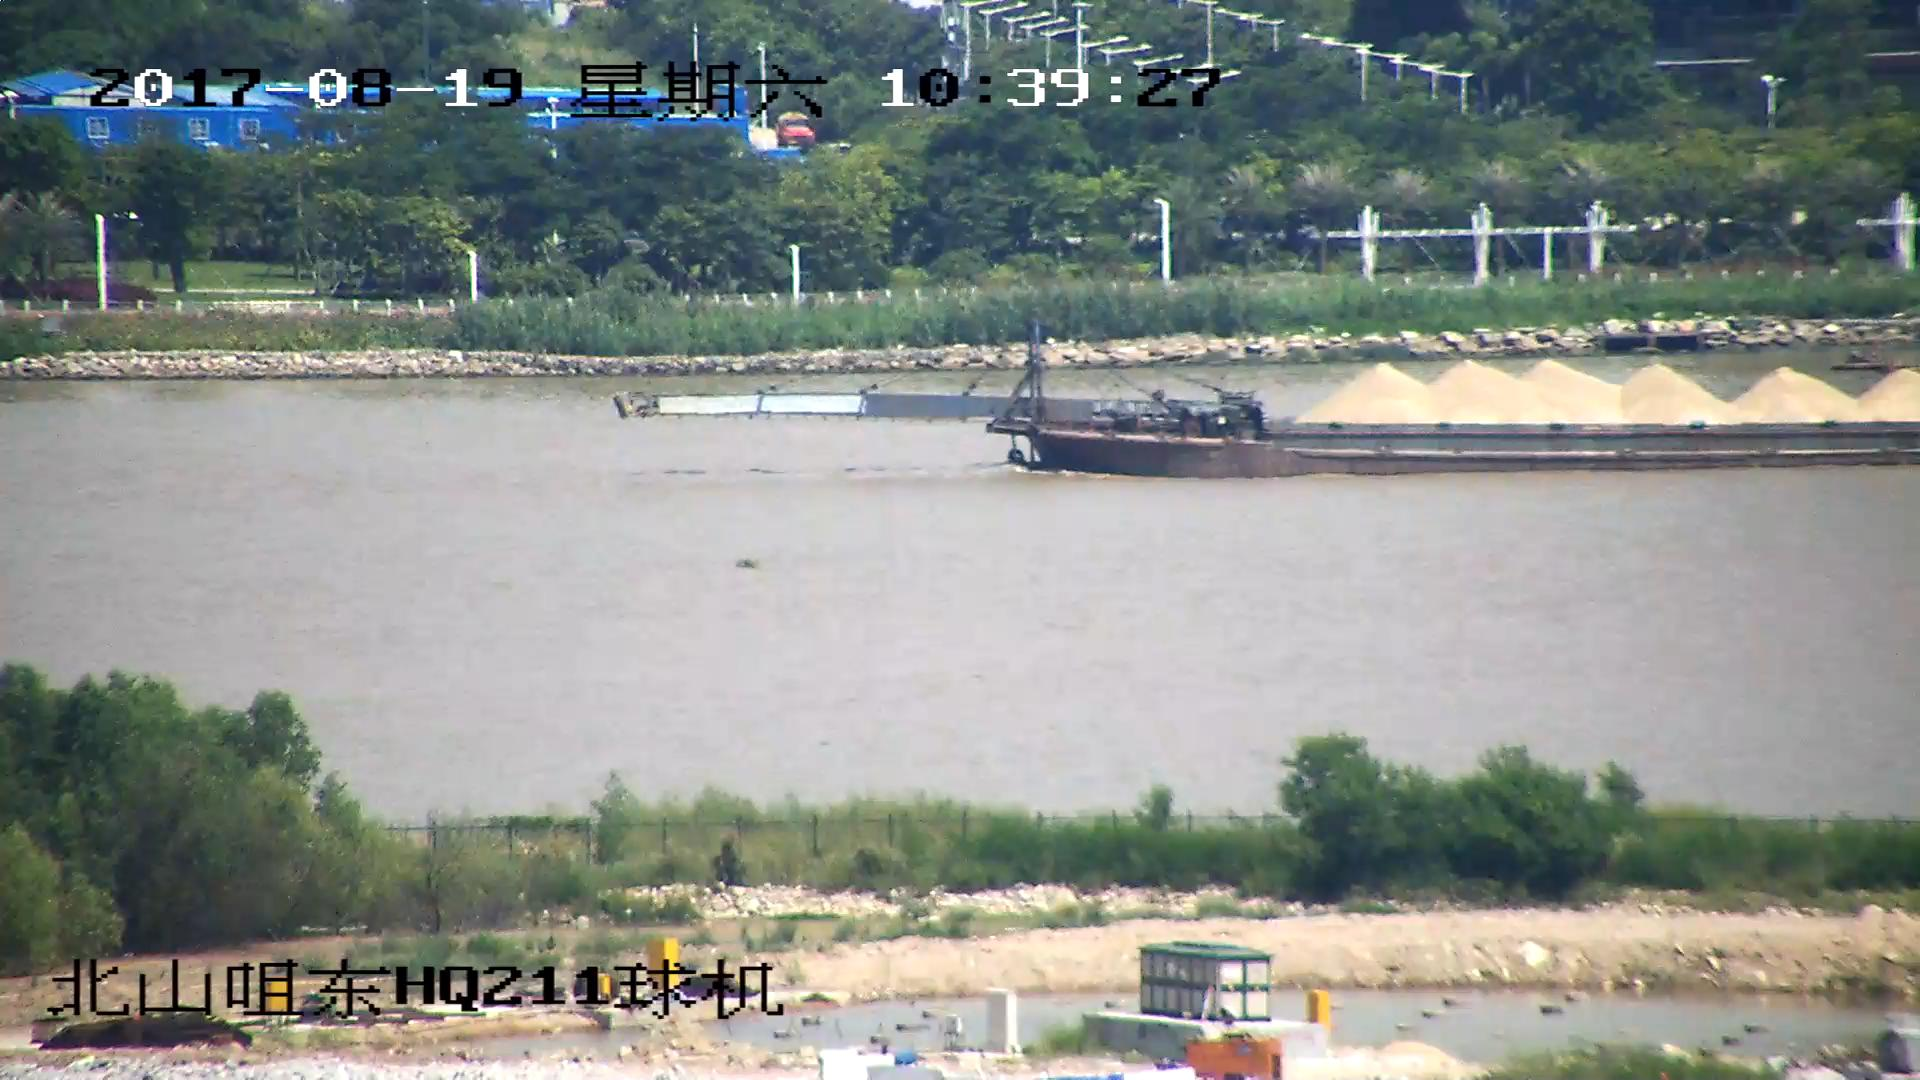ore carrier: (612, 315, 1920, 479)
